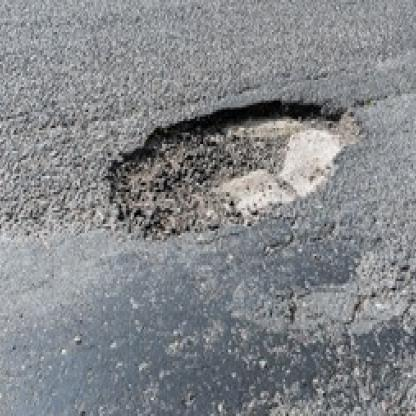pothole: (110, 110, 351, 230)
